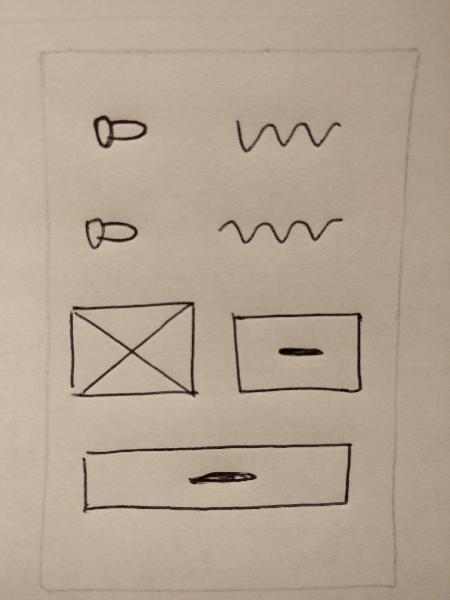button: (73, 441, 359, 526), (225, 305, 374, 404)
image: (63, 296, 204, 409)
switch: (85, 104, 157, 163), (76, 205, 146, 262)
text: (209, 204, 348, 260), (224, 106, 349, 160)
